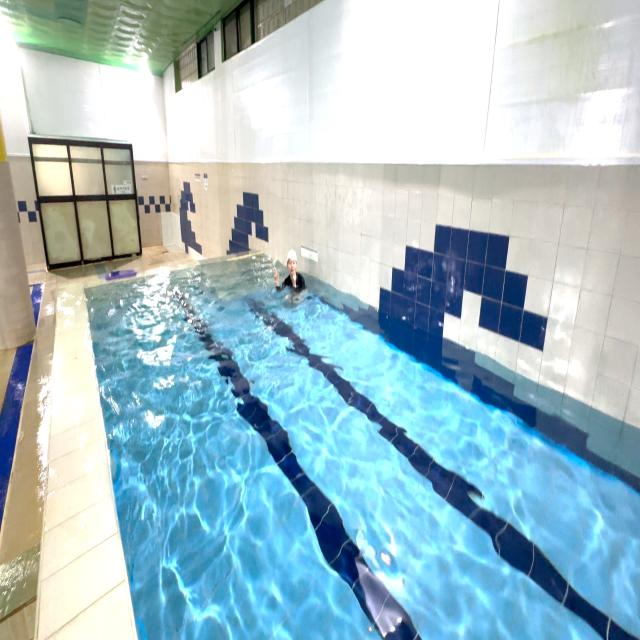Swimming: (261, 230, 318, 330)
